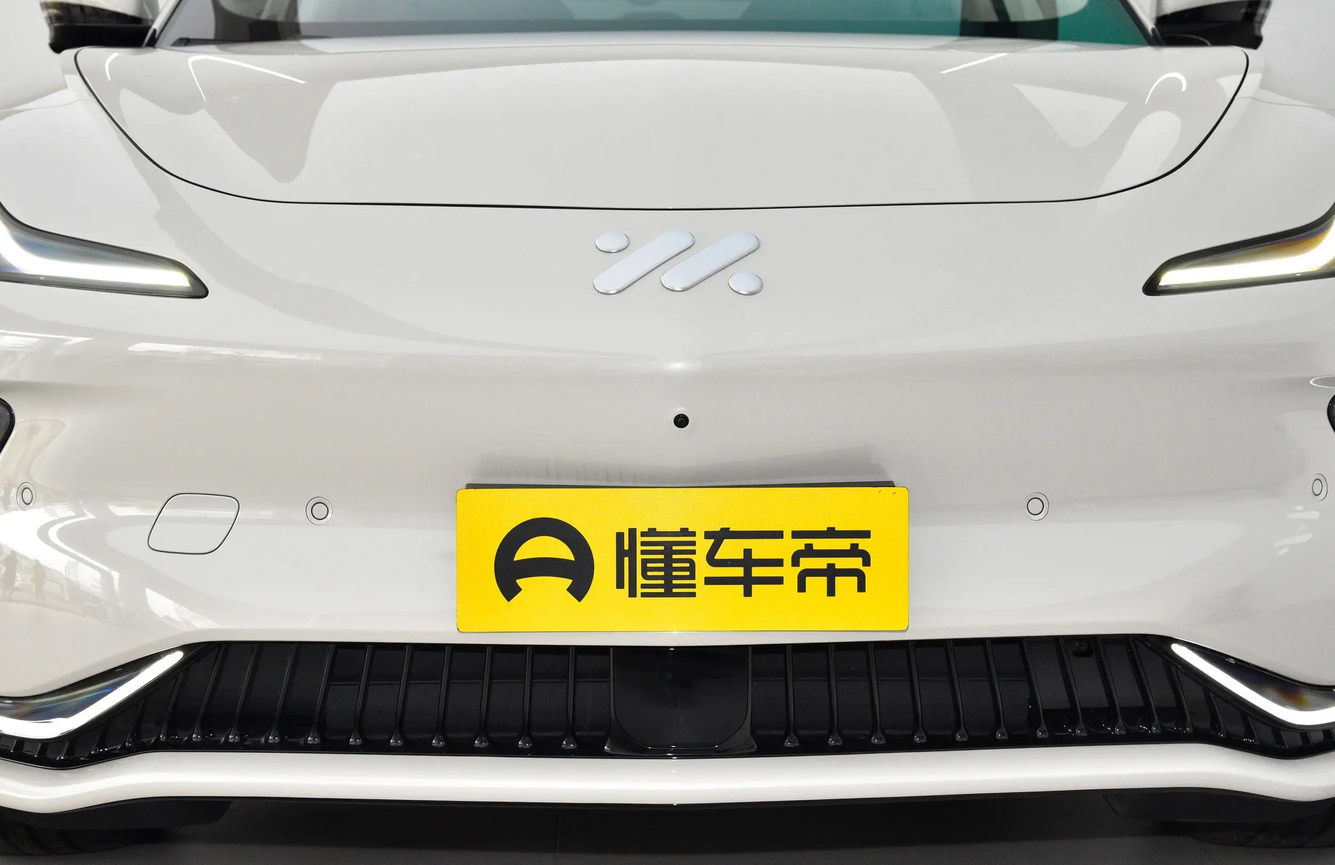IM: (593, 230, 762, 294)
